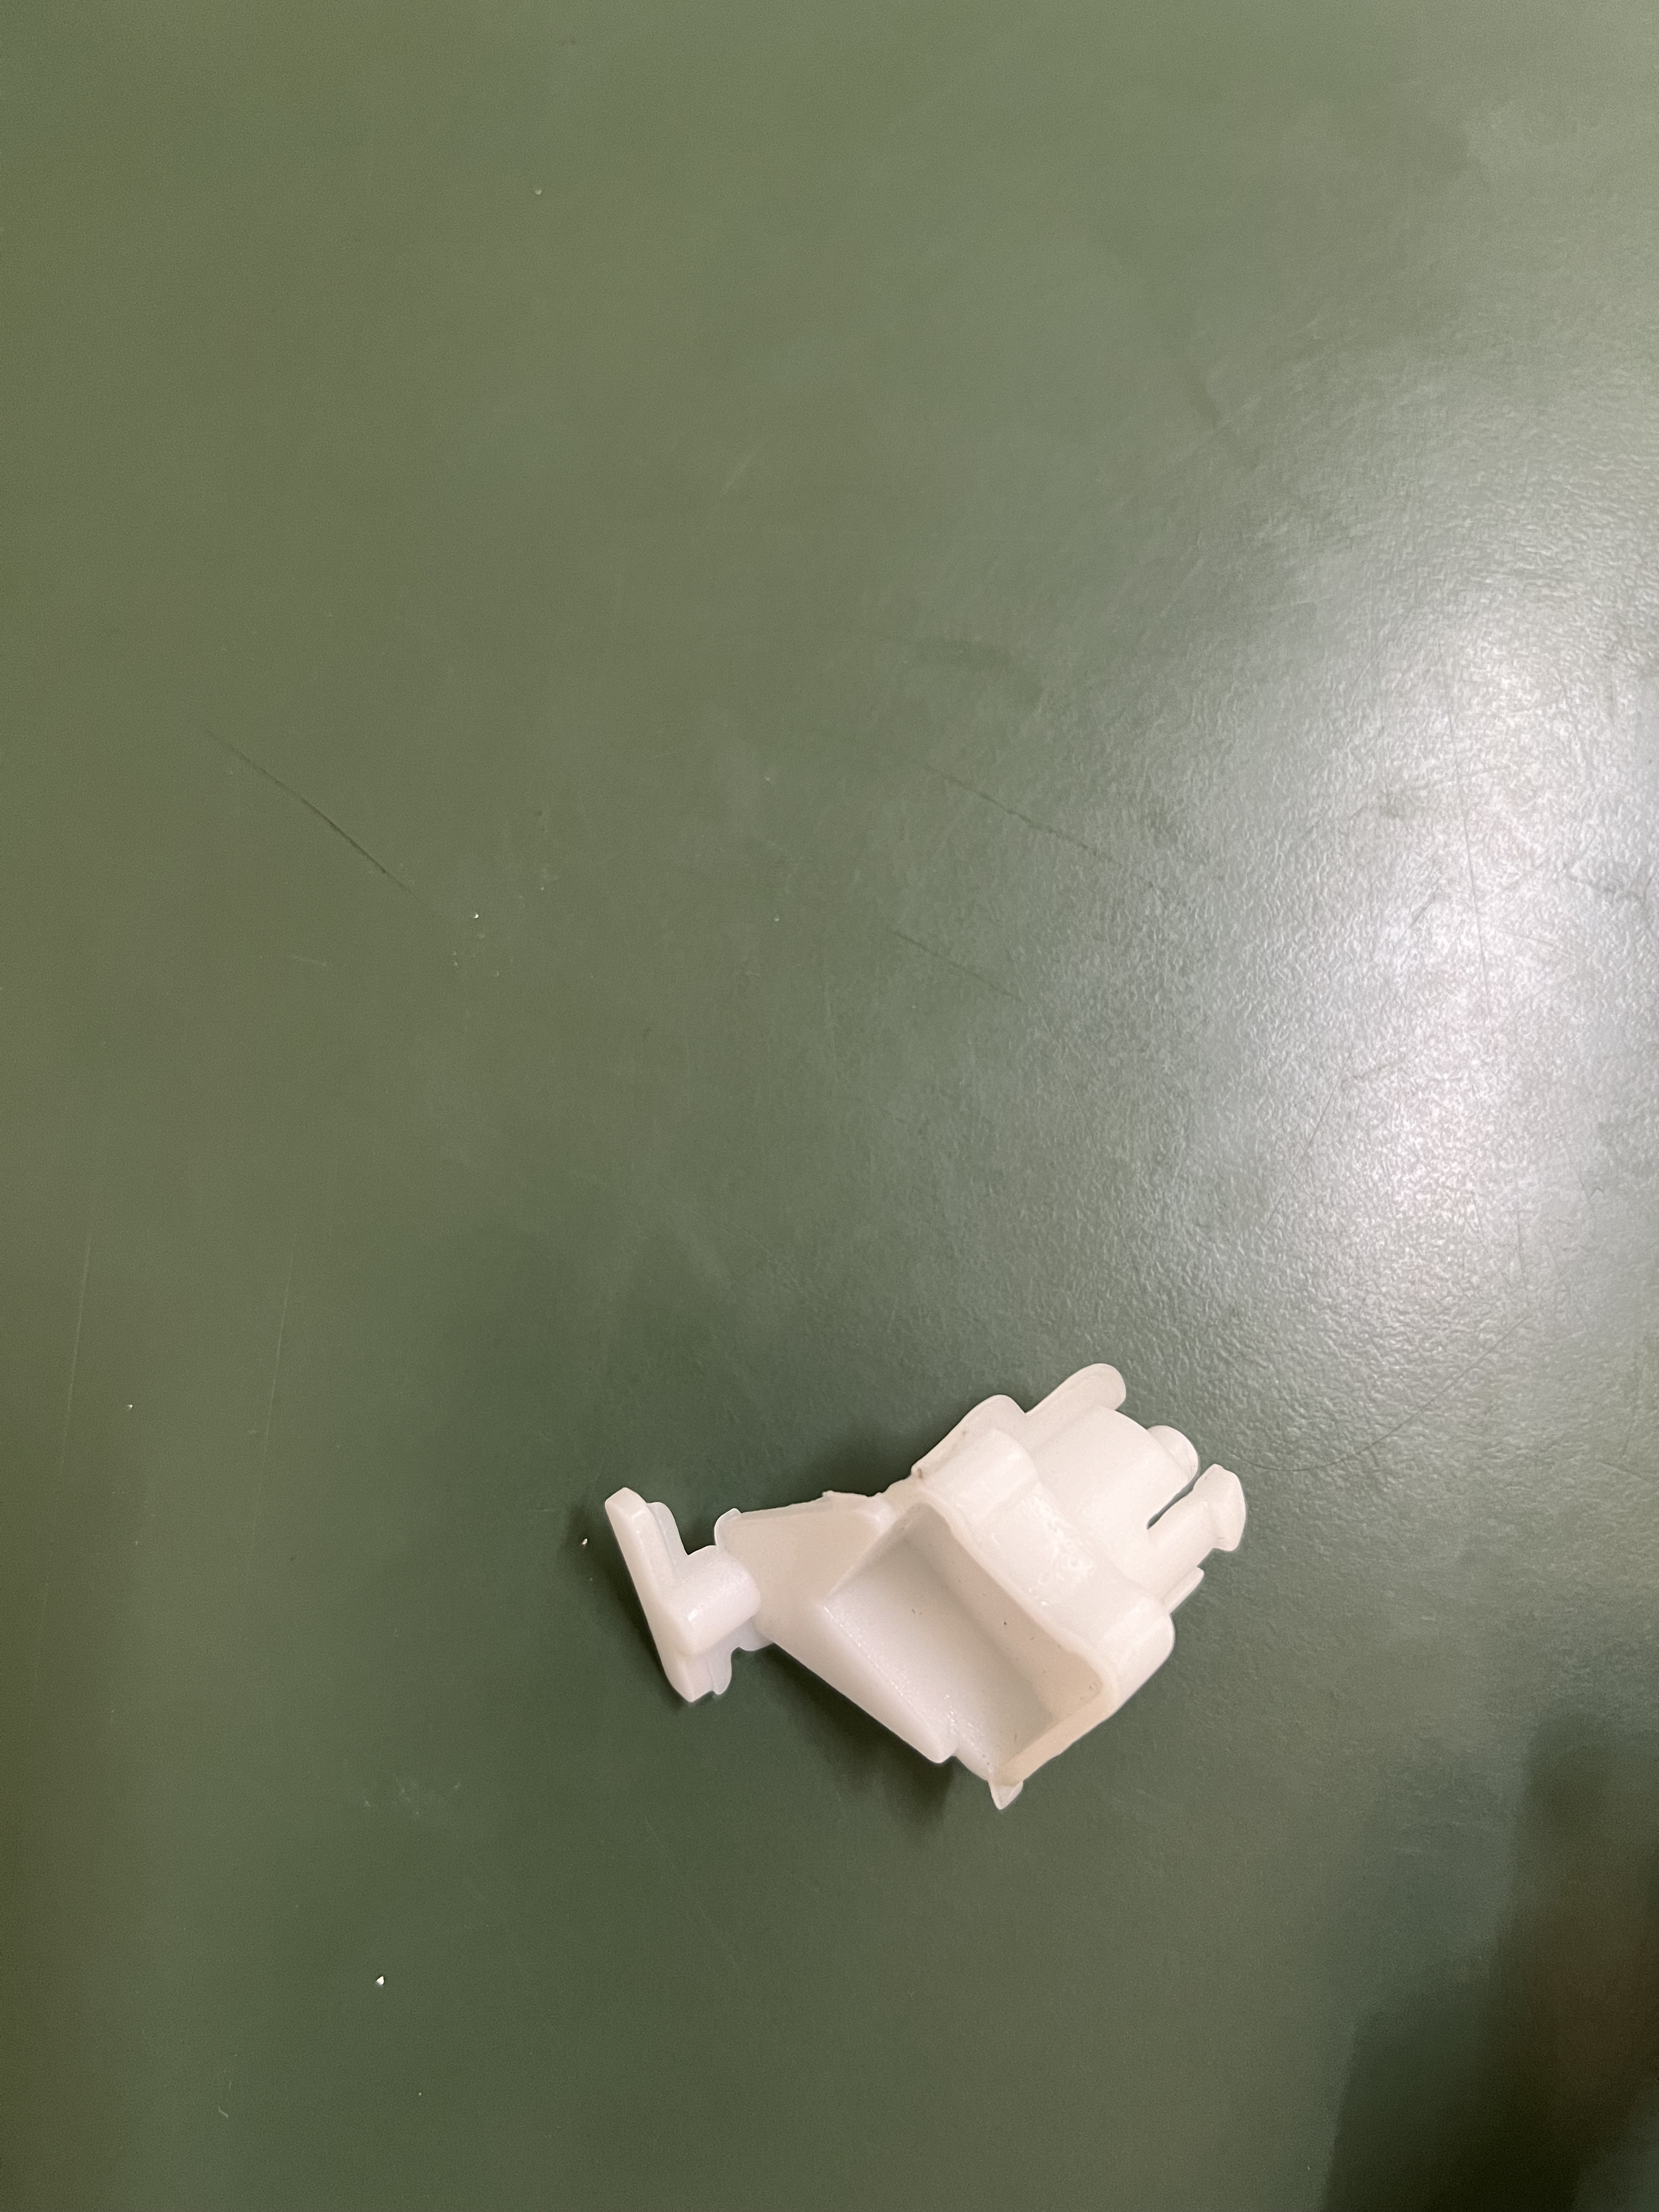drain_lever: (580, 1369, 1263, 1820)
